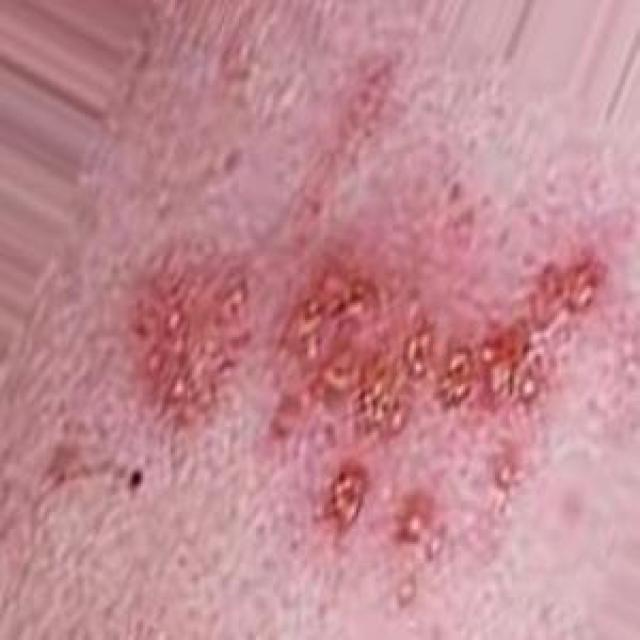Shingles: (131, 255, 603, 548)
